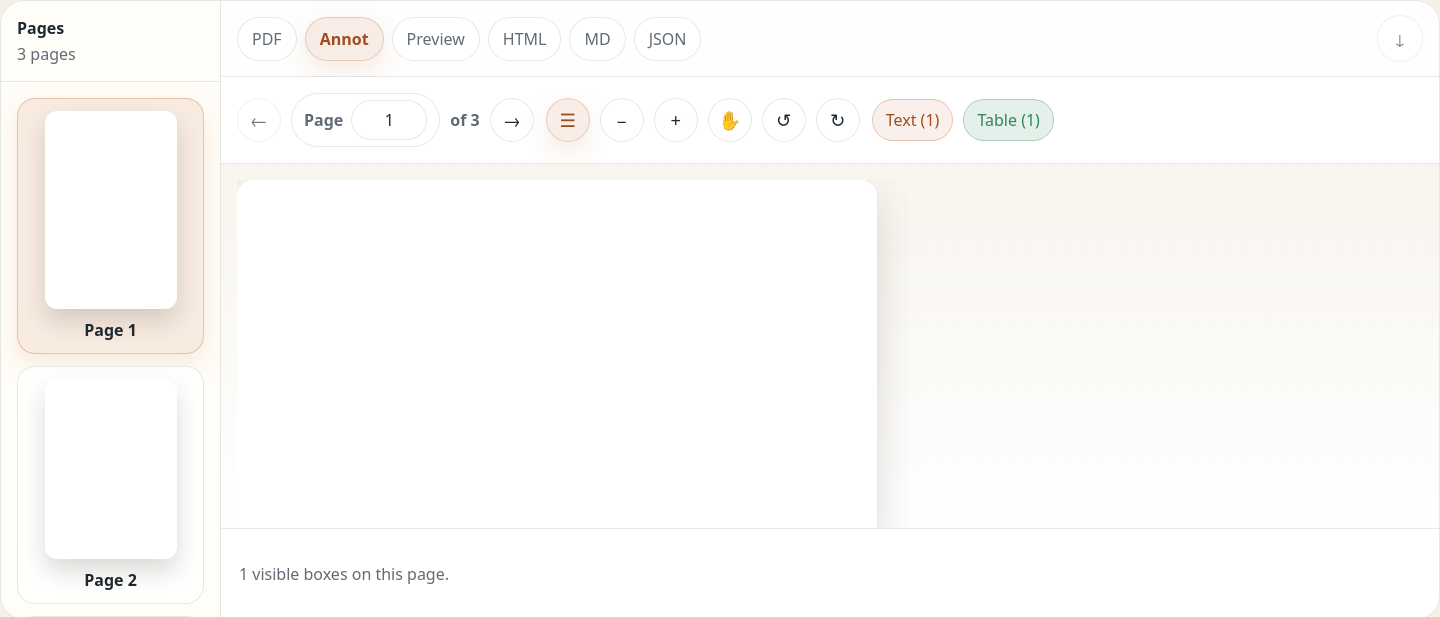
Test: BoundingBoxPreview › renders page thumbnails with page numbers and lets the user jump pages
This screenshot has width=1440, height=617.
Expected: the button with aria-label "go to page 1" is shown, [17,98,204,354]
Expected: the text "Page 1" is shown, [84,319,137,341]
Click the button with aria-label "go to page 2" at (110, 485), box [17,366,204,604]
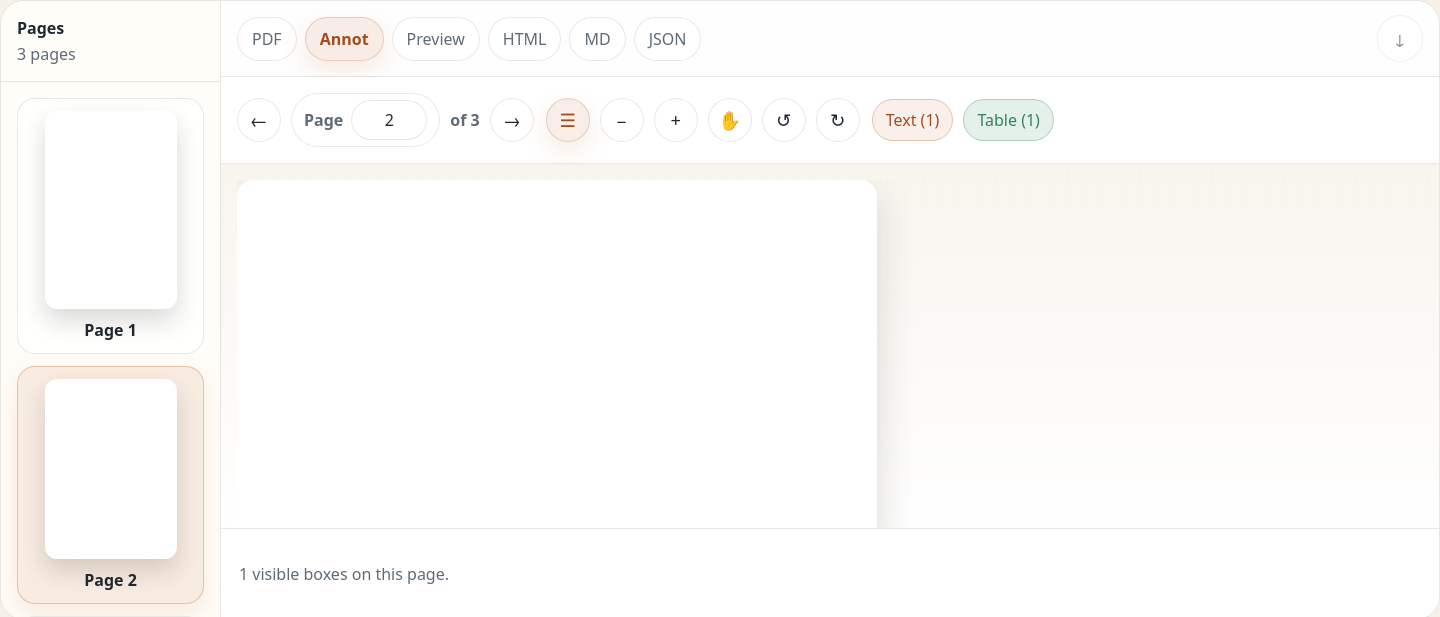
Expected: the field named "page number" holds "2", [351,100,427,140]
